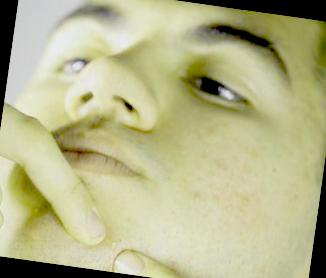Acne: (203, 122, 217, 136), (108, 238, 119, 250), (190, 190, 200, 202)
